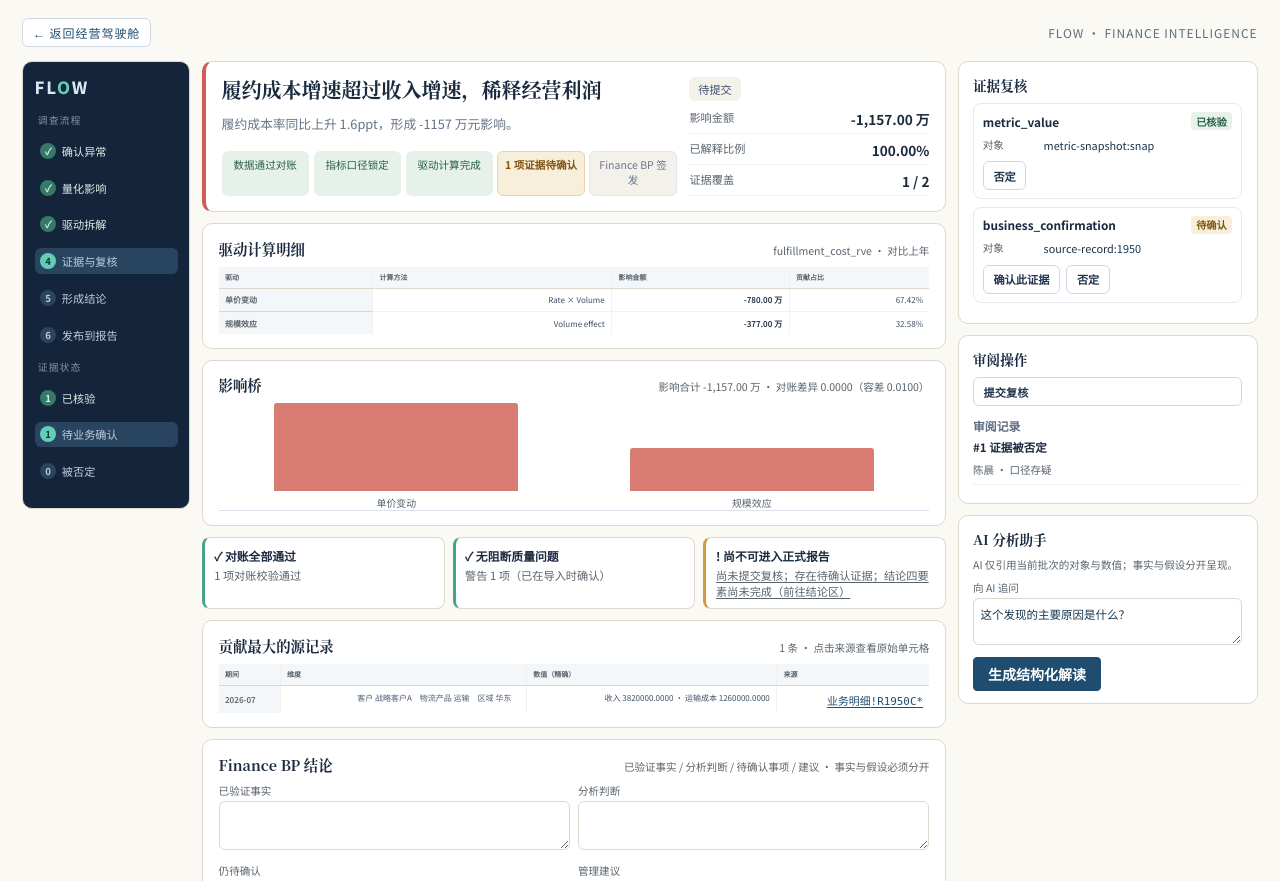
Investigation handoff › opens a source-cell viewer for the selected lineage fact
Step 1. Click the button "业务明细!R1950C*" → (875, 700), box left=827, top=692, right=923, bottom=708
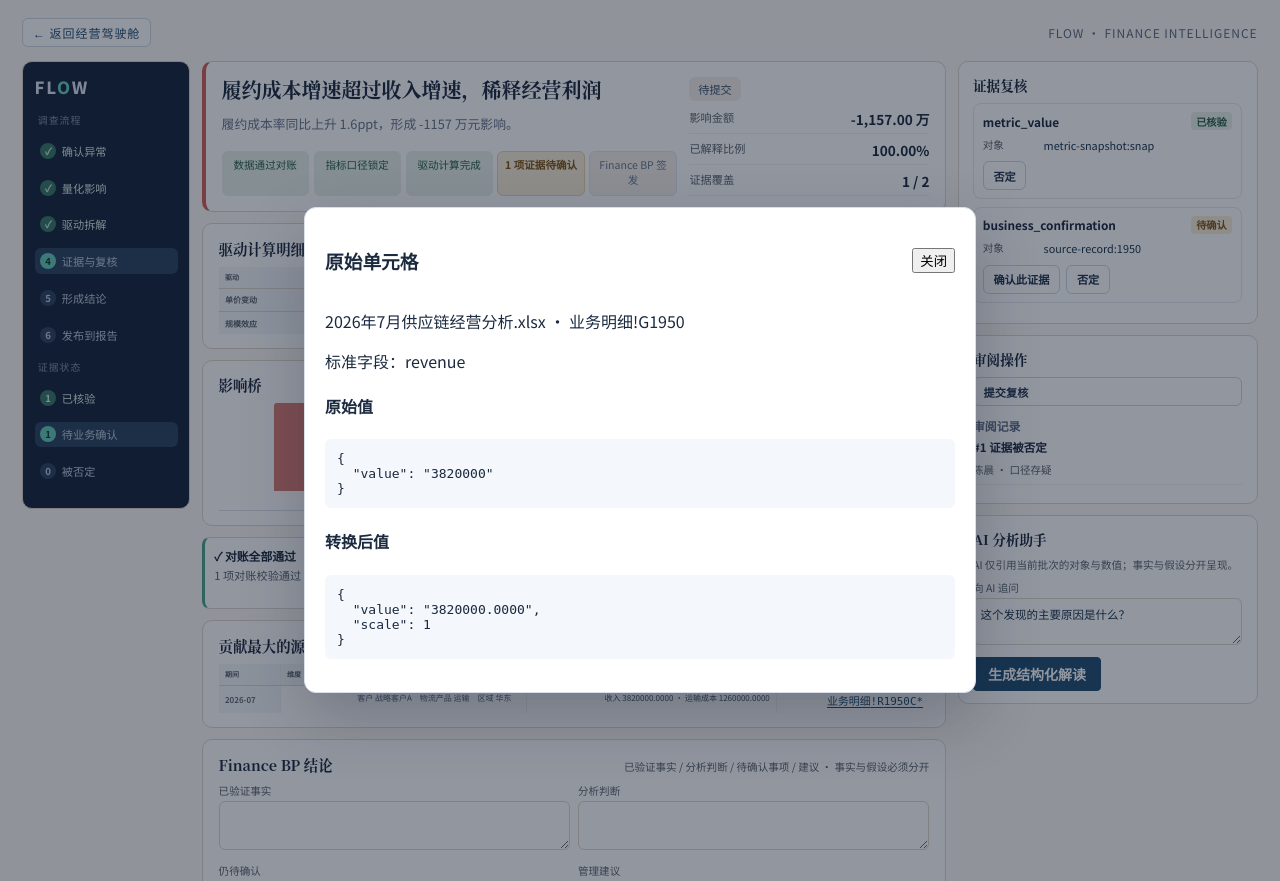
Expected: the text "2026年7月供应链经营分析.xlsx · 业务明细!G1950" is shown, left=325, top=309, right=685, bottom=333
Expected: the dialog shows "\"3820000\"", left=337, top=451, right=494, bottom=496
